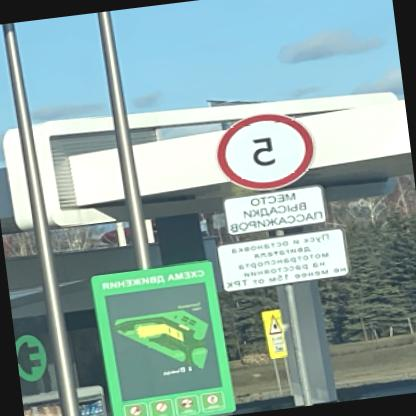speedlimit: (214, 106, 323, 194)
